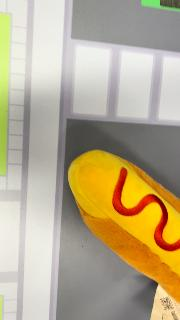hotdog: (67, 148, 179, 304)
